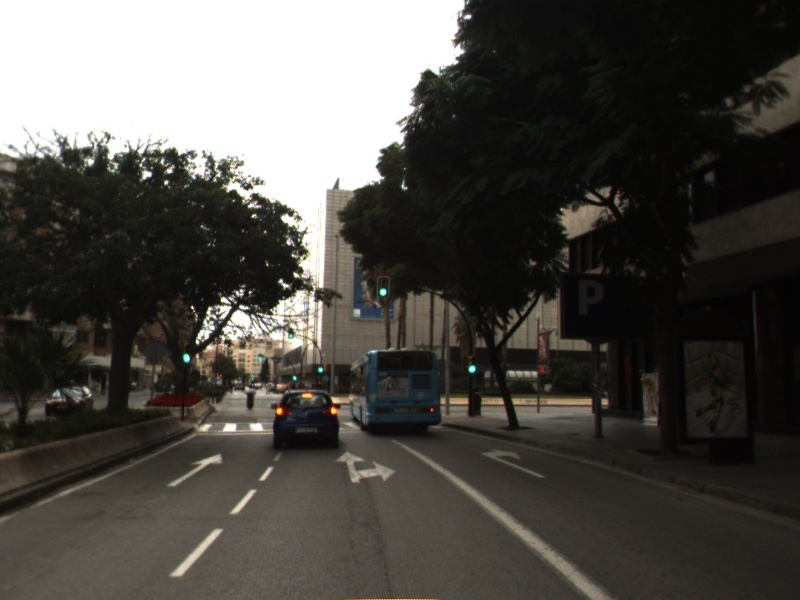RIGHT: (478, 445, 548, 480)
STRAIGHT: (165, 451, 226, 489)
STRAIGHT_RIGHT: (332, 448, 399, 486)
